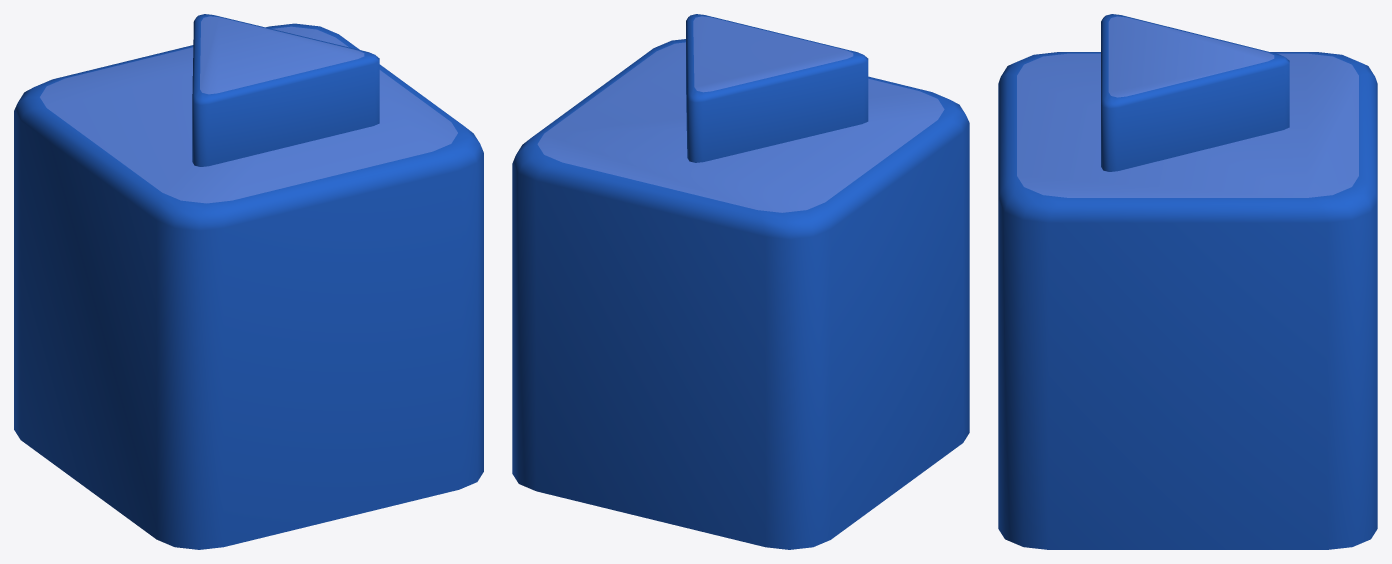
File: block_triangle.fbx
The picture shows the model from 3 angles, left to right: view 1: azimuth 30°, elevation 25°; view 2: azimuth 150°, elevation 25°; view 3: azimuth 270°, elevation 25°; orthographic projection. The views are drawn at different scales.
Parts seen in each view (by area): view 1: block_triangle; view 2: block_triangle; view 3: block_triangle.
Part boxes in pixels (<box>): block_triangle: <box>14,14,483,549</box>; block_triangle: <box>512,14,969,549</box>; block_triangle: <box>998,14,1377,549</box>.
Size of the model in its own units: 100 by 100 by 120.
